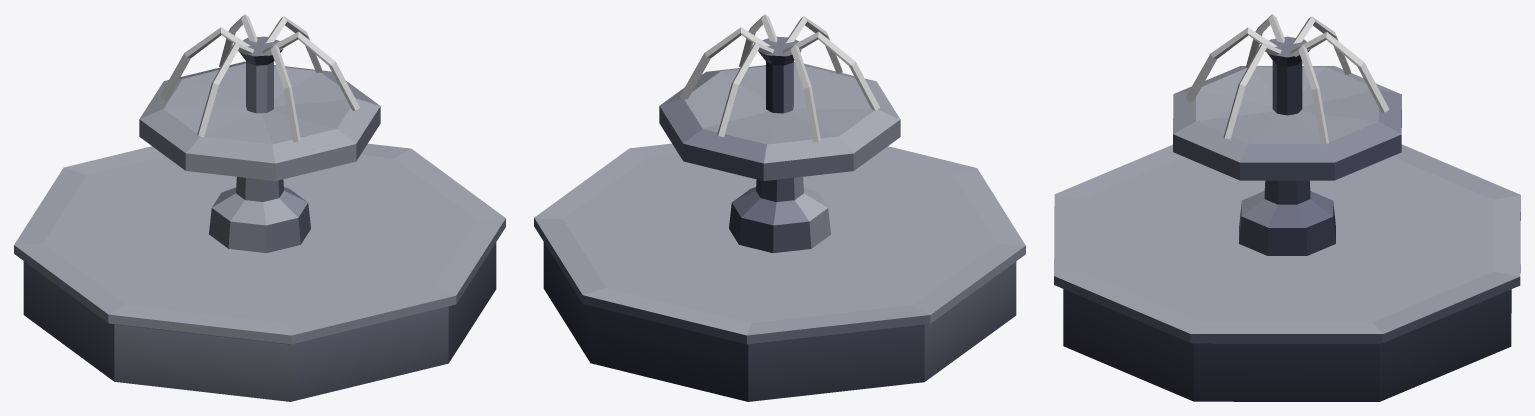
File: fountain.glb
The picture shows the model from 3 angles, left to right: view 1: azimuth 30°, elevation 25°; view 2: azimuth 150°, elevation 25°; view 3: azimuth 270°, elevation 25°; orthographic projection.
Parts seen in each view (by area): view 1: fountain; view 2: fountain; view 3: fountain.
Boxes of the visible parts, <box> form: fountain: <box>14,14,505,401</box>; fountain: <box>534,14,1025,401</box>; fountain: <box>1054,14,1520,401</box>.
Bounding box in the file's own units: 1.89 × 1.24 × 1.89.
